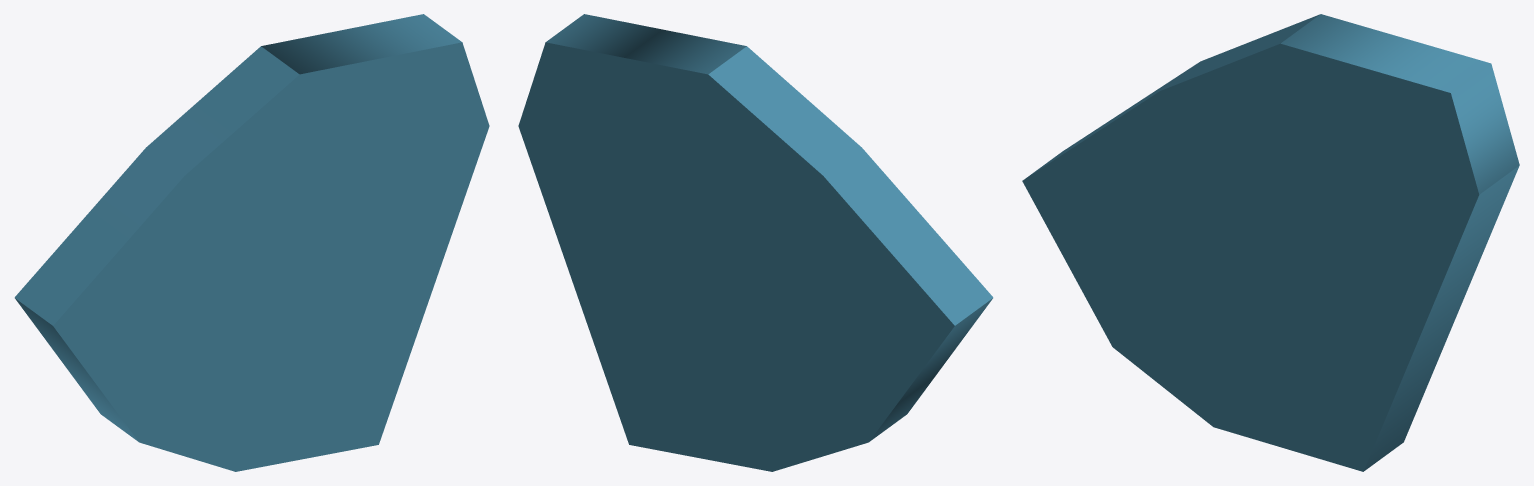
Rendered from NexusA_Trigger_16.fbx.
3 renders of one model, left to right at view 1: azimuth 30°, elevation 25°; view 2: azimuth 150°, elevation 25°; view 3: azimuth 330°, elevation 25°, orthographic. The views are drawn at different scales.
Visible parts, largest first — view 1: pCube20; view 2: pCube20; view 3: pCube20.
Boxes of the visible parts, bbox=[...] form: pCube20: bbox=[14, 14, 489, 471]; pCube20: bbox=[518, 14, 993, 471]; pCube20: bbox=[1022, 14, 1519, 471].
Bounding box in the file's own units: 56.4 × 48.11 × 8.65.
